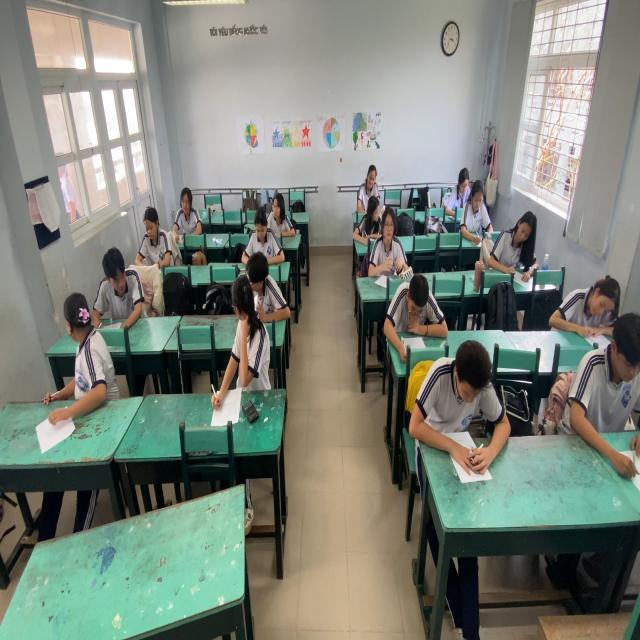cheating: (51, 286, 113, 403), (217, 276, 271, 393), (234, 248, 296, 331), (98, 248, 148, 320), (358, 193, 386, 234)
not_cheating: (417, 334, 506, 444), (591, 313, 640, 451), (380, 276, 456, 344), (554, 268, 624, 334), (492, 202, 543, 276), (374, 192, 410, 292), (136, 202, 176, 264), (172, 179, 206, 248), (244, 206, 284, 262), (463, 186, 496, 244), (269, 195, 298, 248), (446, 165, 476, 206), (356, 158, 383, 203)
